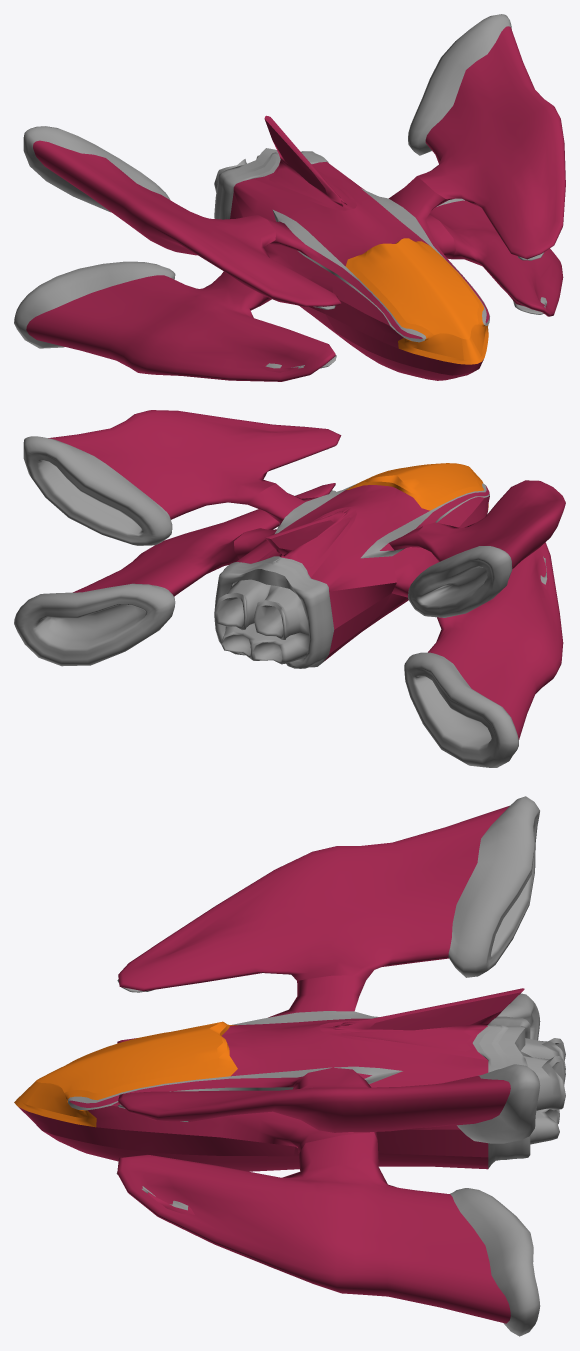
Rendered from DonQuixote_Final.FBX.
3 renders of one model, top to bottom at view 1: azimuth 30°, elevation 25°; view 2: azimuth 150°, elevation 25°; view 3: azimuth 270°, elevation 25°, orthographic. The views are drawn at different scales.
Parts seen in each view (by area): view 1: Don Quixote Final; view 2: Don Quixote Final; view 3: Don Quixote Final.
Boxes of the visible parts, x1,y1,x2,y2 form: Don Quixote Final: (14, 14, 565, 381); Don Quixote Final: (14, 410, 565, 767); Don Quixote Final: (14, 796, 565, 1336).
Bounding box in the file's own units: 236 × 100 × 185.
